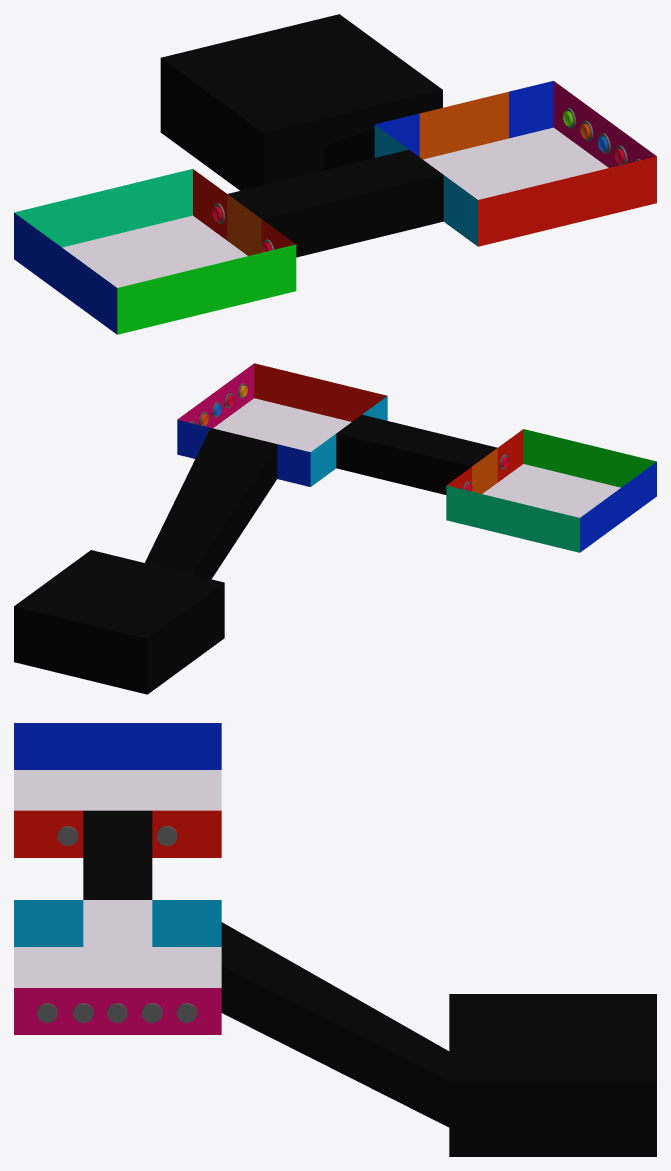
Rendered from Test Level.fbx.
The picture shows the model from 3 angles, top to bottom: view 1: azimuth 30°, elevation 25°; view 2: azimuth 150°, elevation 25°; view 3: azimuth 270°, elevation 25°; orthographic projection. The views are drawn at different scales.
Visible parts, largest first — view 1: Base.002, Base.003, Base.004, 1DoorR, 1DoorL; view 2: Base.002; view 3: Base.002.
Part boxes in pixels (bbox=[...]): Base.002: bbox=[14, 14, 656, 334]; Base.003: bbox=[419, 102, 464, 159]; Base.004: bbox=[464, 91, 508, 149]; 1DoorR: bbox=[227, 194, 244, 252]; 1DoorL: bbox=[244, 207, 261, 255]; Base.002: bbox=[14, 363, 656, 694]; Base.002: bbox=[14, 723, 656, 1156].
Bounding box in the file's own units: 6058 × 1784 × 6190.
